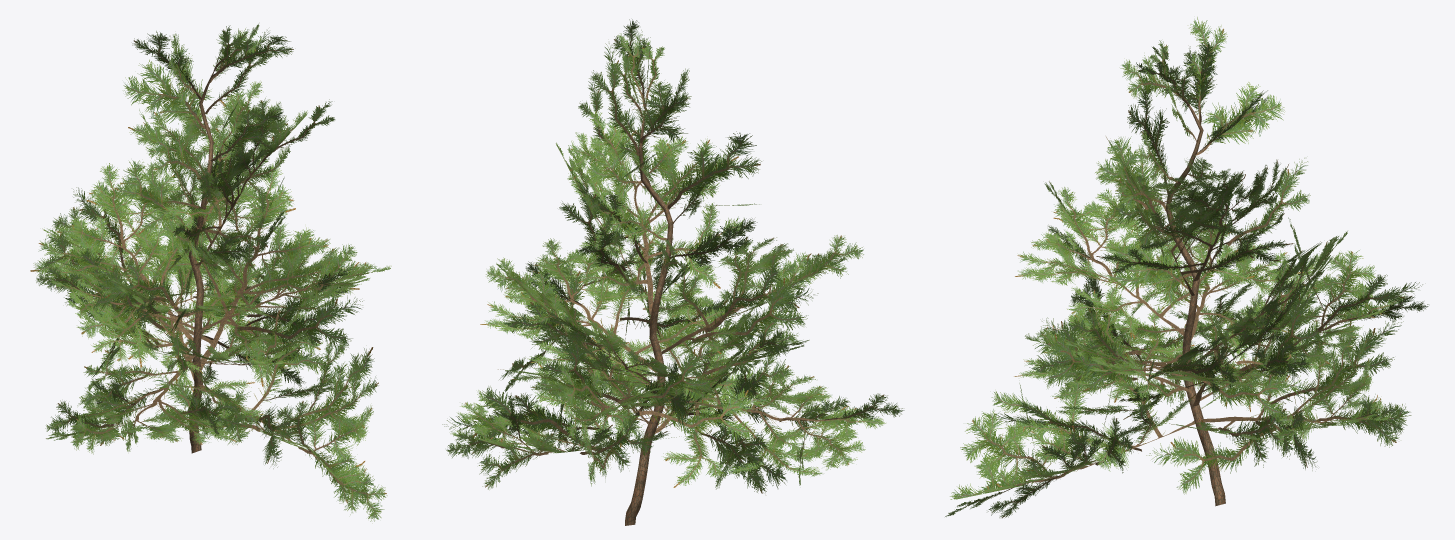
The picture shows the model from 3 angles, left to right: view 1: azimuth 30°, elevation 25°; view 2: azimuth 150°, elevation 25°; view 3: azimuth 270°, elevation 25°; orthographic projection. The views are drawn at different scales.
Parts seen in each view (by area): view 1: Pine_sapling_3_LOD1_Bark_Mat_0; view 2: Pine_sapling_3_LOD1_Bark_Mat_0; view 3: Pine_sapling_3_LOD1_Bark_Mat_0.
Part boxes in pixels (box(x1,y1,x2,y2)): Pine_sapling_3_LOD1_Bark_Mat_0: box(30, 24, 391, 521); Pine_sapling_3_LOD1_Bark_Mat_0: box(442, 19, 904, 525); Pine_sapling_3_LOD1_Bark_Mat_0: box(945, 17, 1428, 518).
Bounding box in the file's own units: 1.19 × 1.51 × 1.43.
